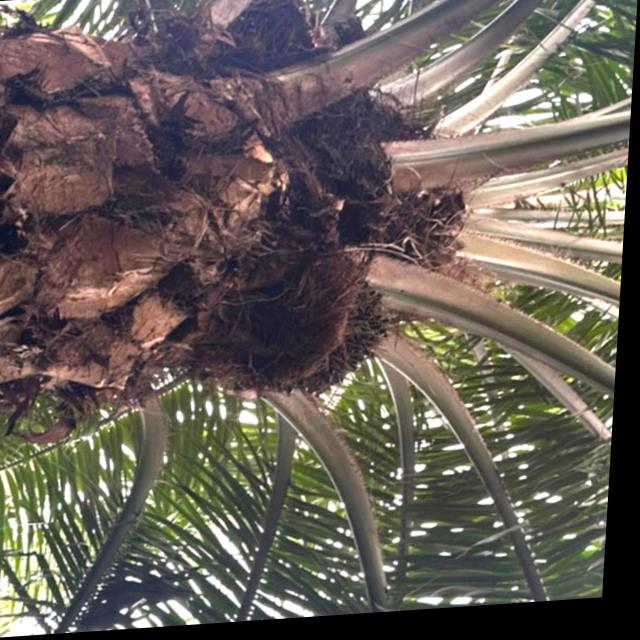unripe: (220, 267, 415, 417)
